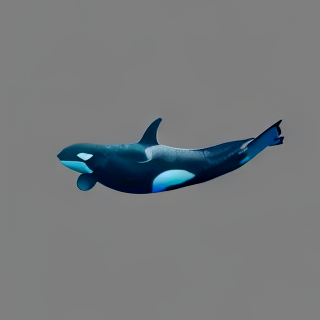Orca whale: (56, 117, 285, 195)
